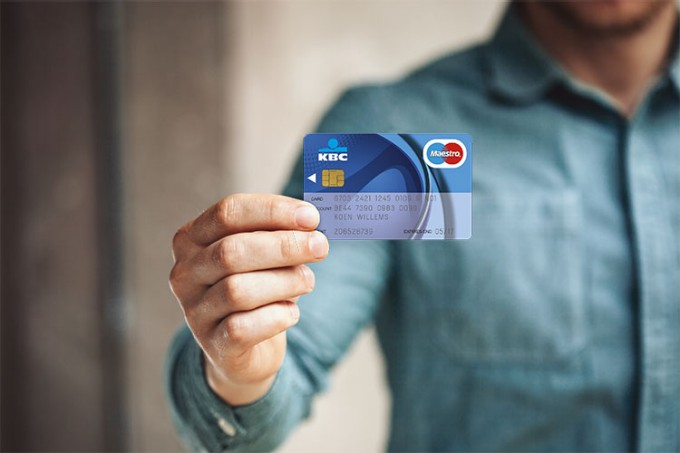tarjeta: (301, 132, 473, 241)
